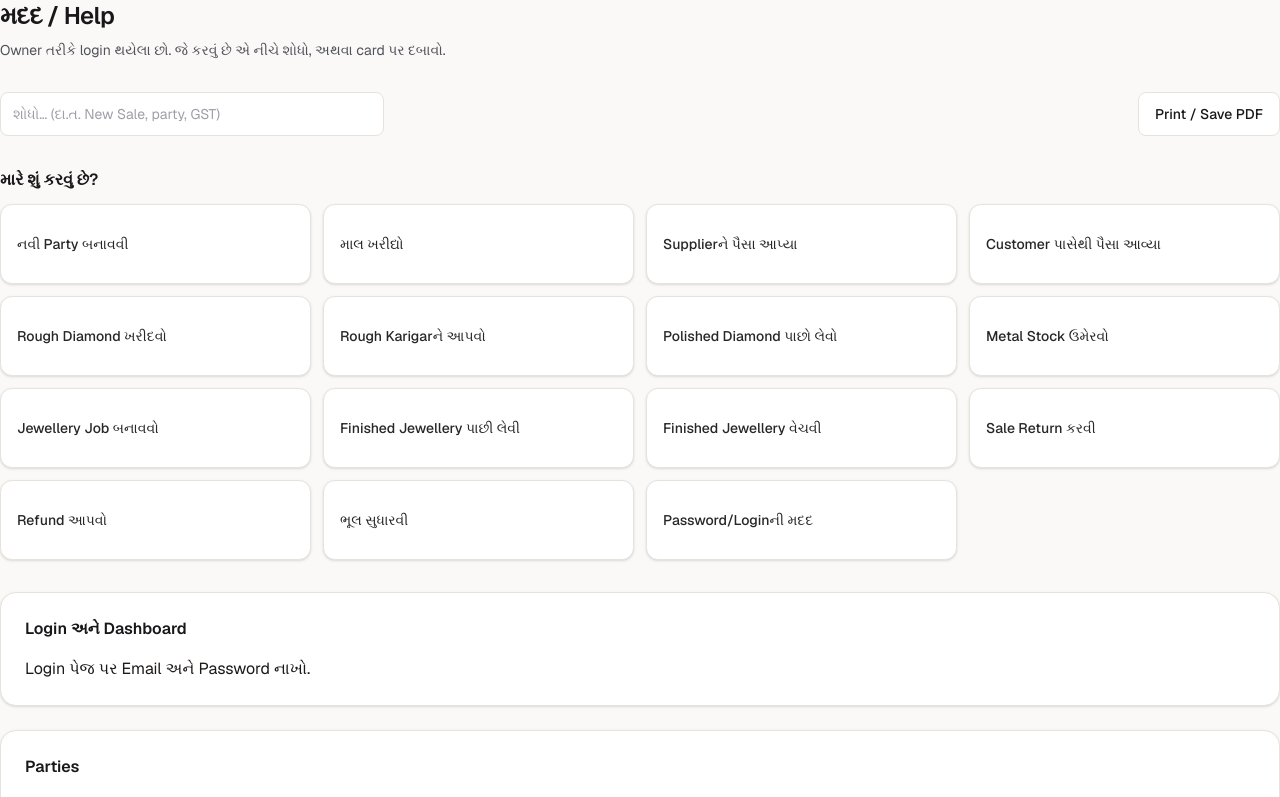
Test: HelpPageClient › search filters both task cards and sections by Gujarati or English keyword
Type "party" into the search field with placeholder "શોધો… (દા.ત. New Sale, party, GST)". click: [192, 114]
box: [0,92,384,136]
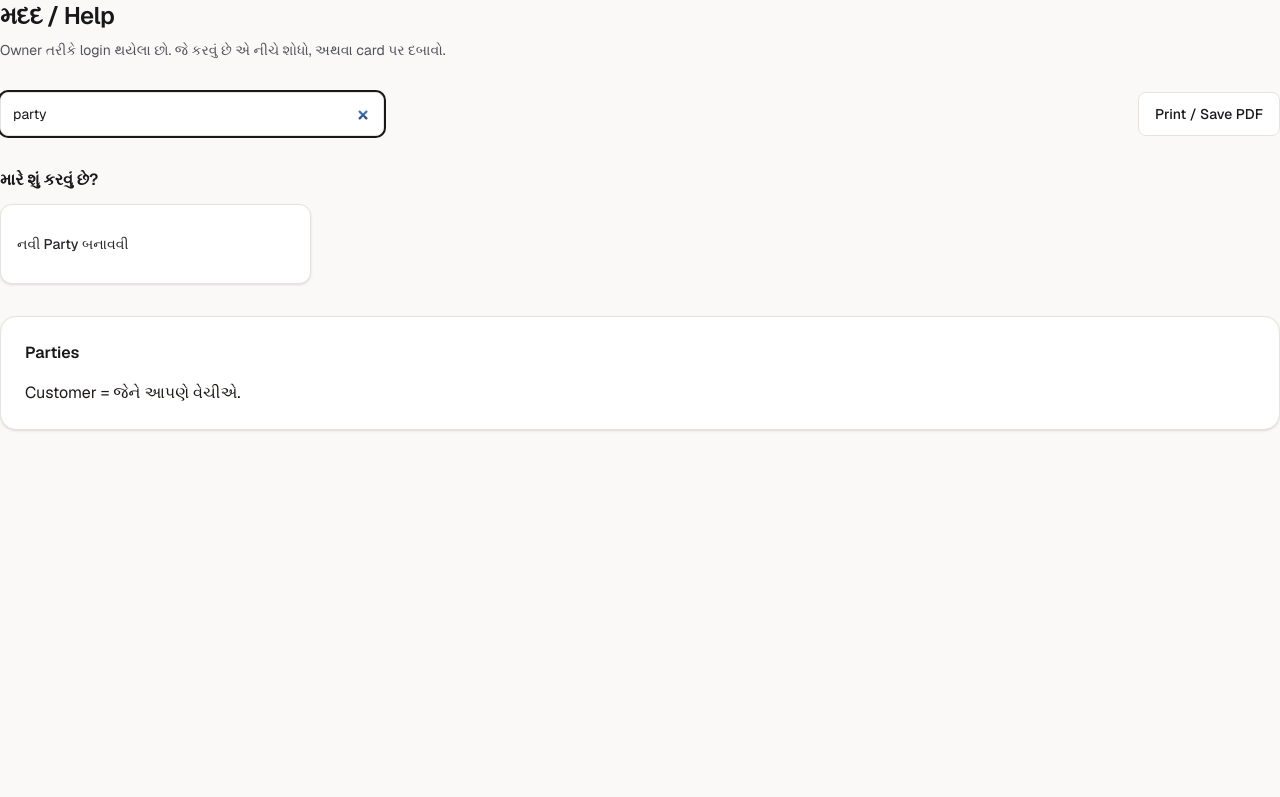
expect the link "નવી Party બનાવવી" is shown: met, box [0,204,311,284]
expect the link "Password/Loginની મદદ" is gone: met
expect the heading "Login અને Dashboard" is gone: met
